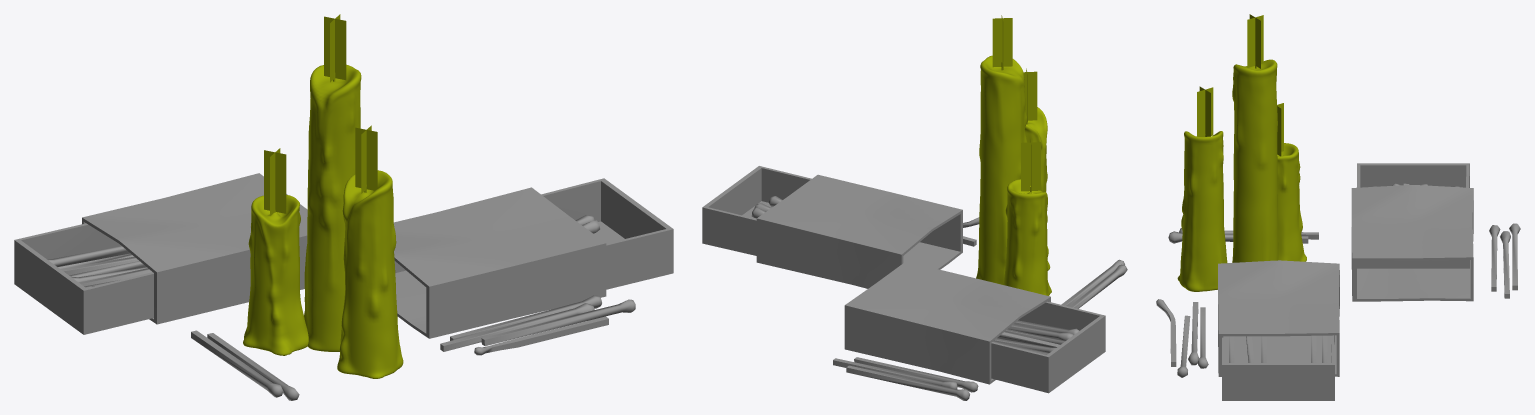
File: match box and candle.obj
The picture shows the model from 3 angles, left to right: view 1: azimuth 30°, elevation 25°; view 2: azimuth 150°, elevation 25°; view 3: azimuth 270°, elevation 25°; orthographic projection. The views are drawn at different scales.
Visible parts, largest first — view 1: Match_box001_Match_box001; view 2: Match_box001_Match_box001; view 3: Match_box001_Match_box001.
Boxes of the visible parts, <box> form: Match_box001_Match_box001: <box>14,14,673,400</box>; Match_box001_Match_box001: <box>702,15,1127,400</box>; Match_box001_Match_box001: <box>1156,14,1520,400</box>.
Bounding box in the file's own units: 14.29 × 8.77 × 10.97.
